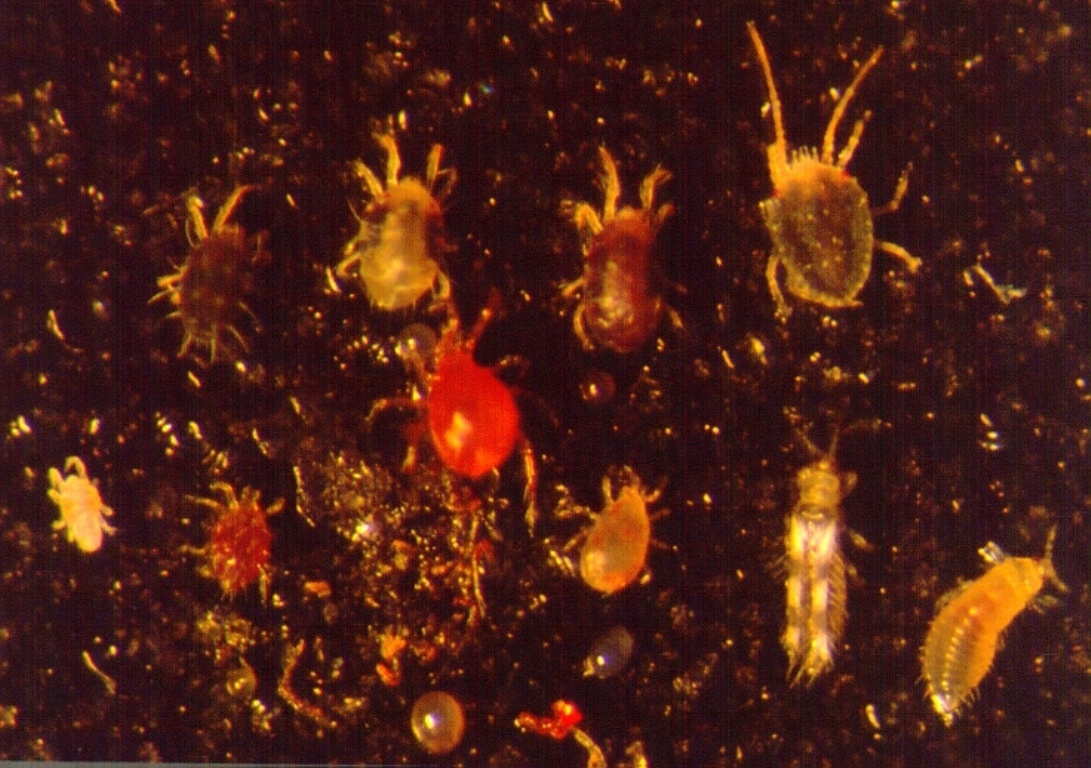Mites: (760, 67, 929, 363), (908, 479, 1079, 768), (315, 128, 504, 378), (538, 120, 710, 374), (156, 151, 313, 374), (368, 313, 554, 498), (179, 480, 316, 656), (790, 452, 860, 704), (583, 468, 690, 622)
